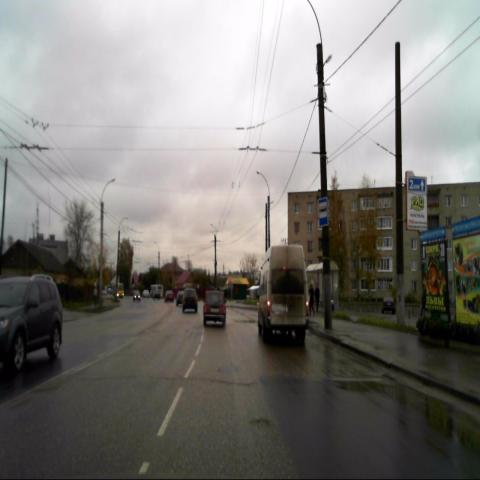5_16: (318, 198, 328, 228)
